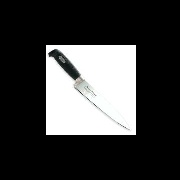k1: (71, 75, 133, 132)
